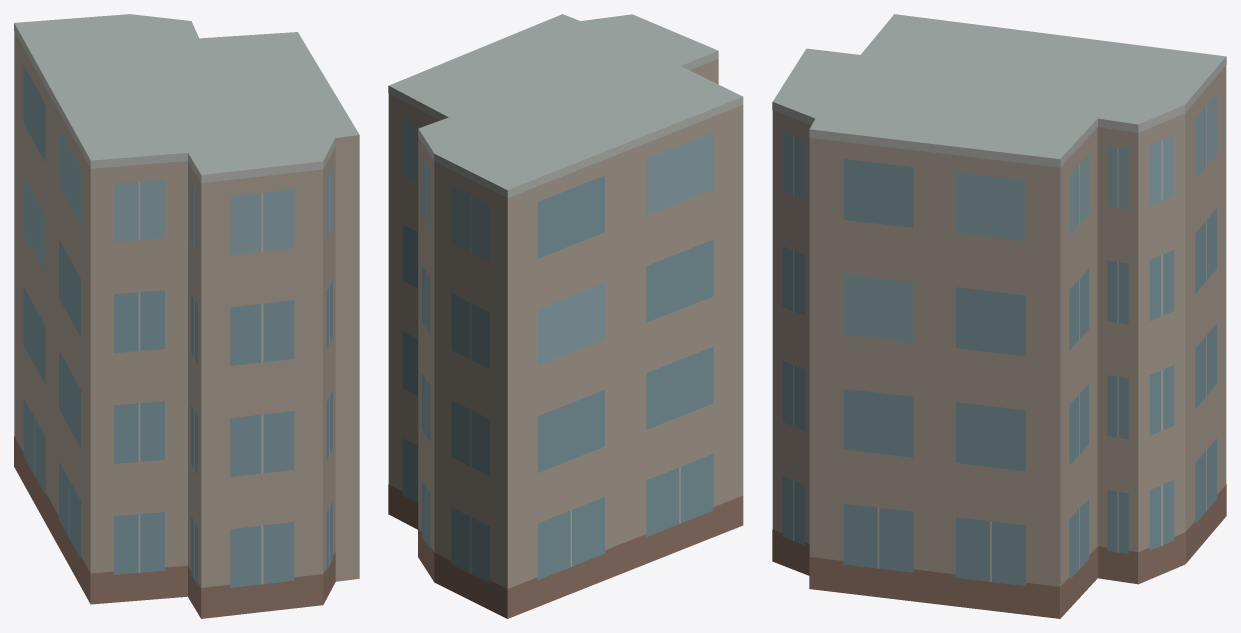
File: survey-upis-33039621.glb
The picture shows the model from 3 angles, left to right: view 1: azimuth 30°, elevation 25°; view 2: azimuth 150°, elevation 25°; view 3: azimuth 270°, elevation 25°; orthographic projection. The views are drawn at different scales.
Parts seen in each view (by area): view 1: survey-upis-33039621.tmp; view 2: survey-upis-33039621.tmp; view 3: survey-upis-33039621.tmp.
Boxes of the visible parts, x1,y1,x2,y2 form: survey-upis-33039621.tmp: (14,14,359,618); survey-upis-33039621.tmp: (388,14,743,618); survey-upis-33039621.tmp: (772,14,1226,618).
Size of the model in its own units: 8.98 by 13.25 by 11.87.
